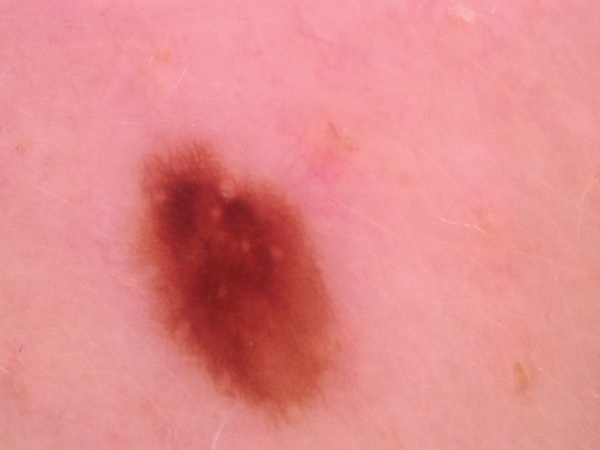Detected Lesion: (130, 132, 354, 431)
